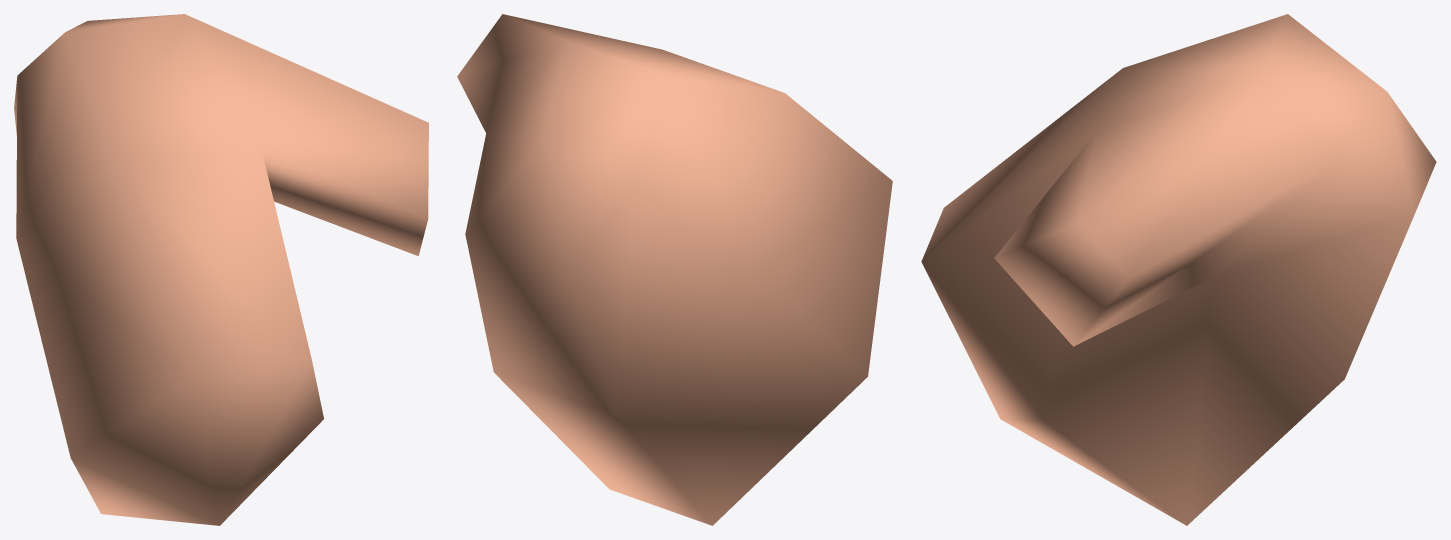
File: Right Hand.FBX
3 views of the same model, side by side, from view 1: azimuth 30°, elevation 25°; view 2: azimuth 150°, elevation 25°; view 3: azimuth 270°, elevation 25° (orthographic). The views are drawn at different scales.
Visible parts, largest first — view 1: Cylinder032; view 2: Cylinder032; view 3: Cylinder032.
Boxes of the visible parts, x1,y1,x2,y2 form: Cylinder032: (14,14,428,525); Cylinder032: (457,14,892,525); Cylinder032: (921,14,1436,525).
Size of the model in its own units: 1.81 by 2.12 by 2.15.
